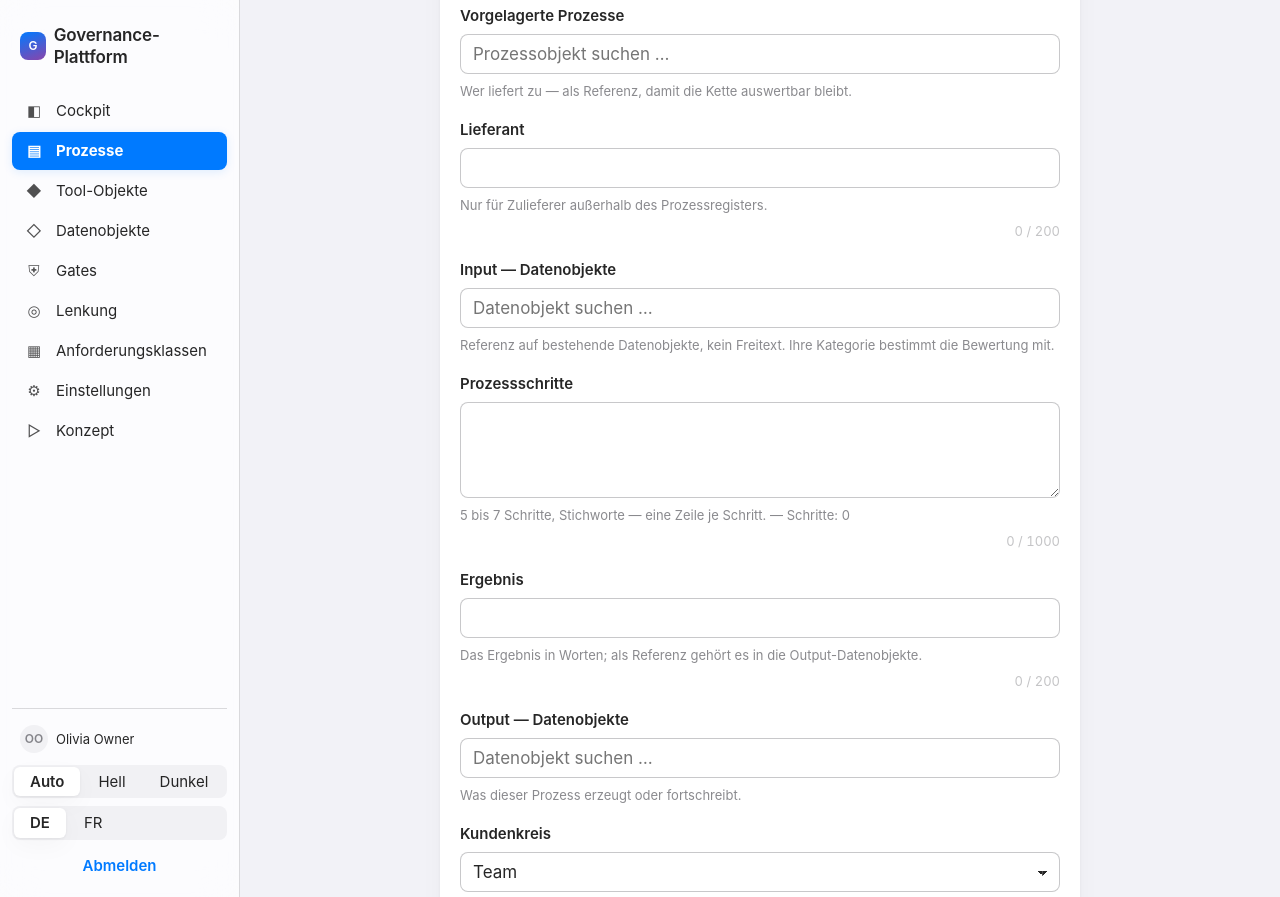
Scenario: Prozessformular — Referenzen statt Freitext › warnt ab dem achten Prozessschritt
(page scrolled)
In the text box labelled "Prozessschritte": (760, 450) [460, 402, 1060, 498], type "a;b;c;d;e;f;g"
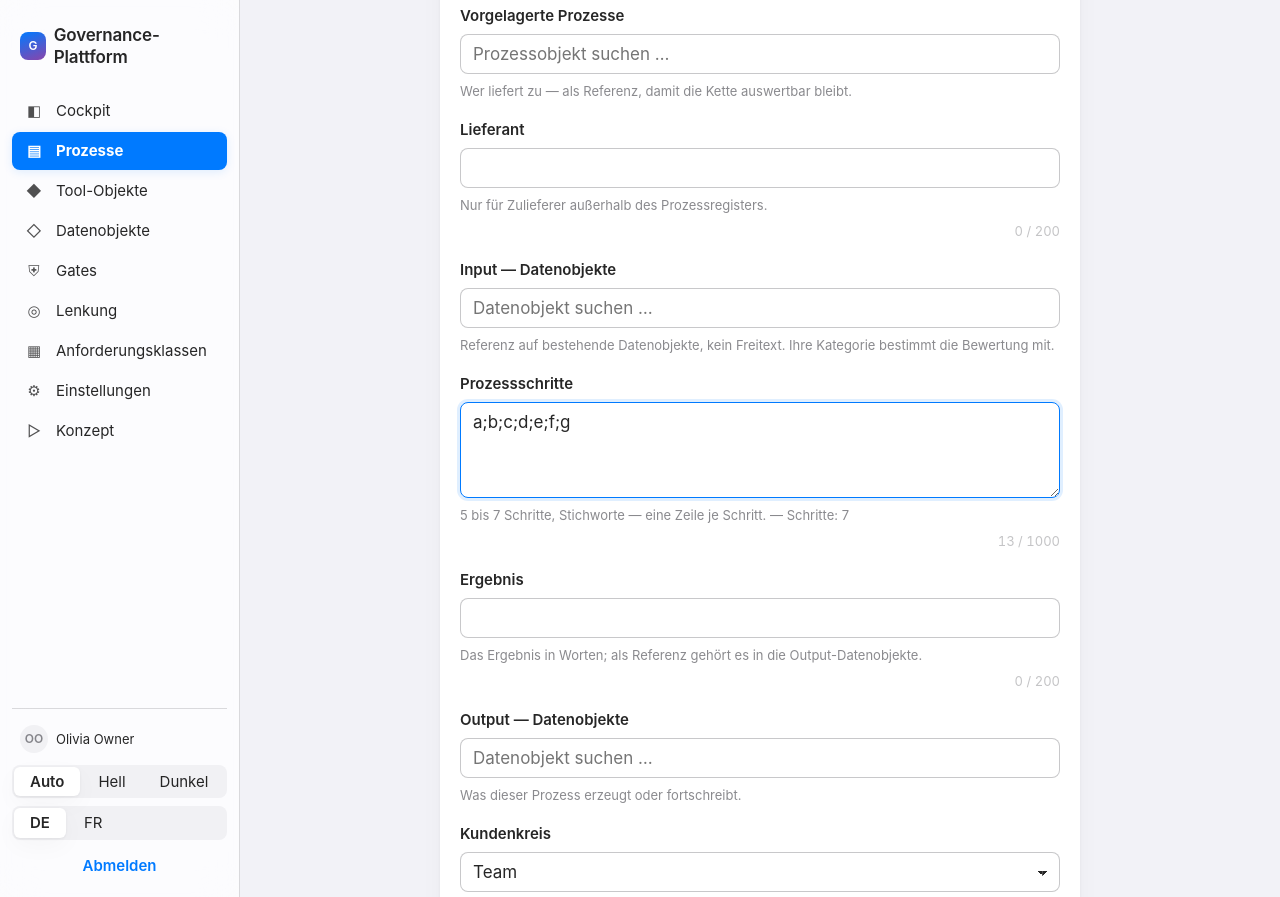
expect the text "falsche Flughöhe" is not shown: met
In the text box labelled "Prozessschritte": (760, 450) [460, 402, 1060, 498], type ";h"
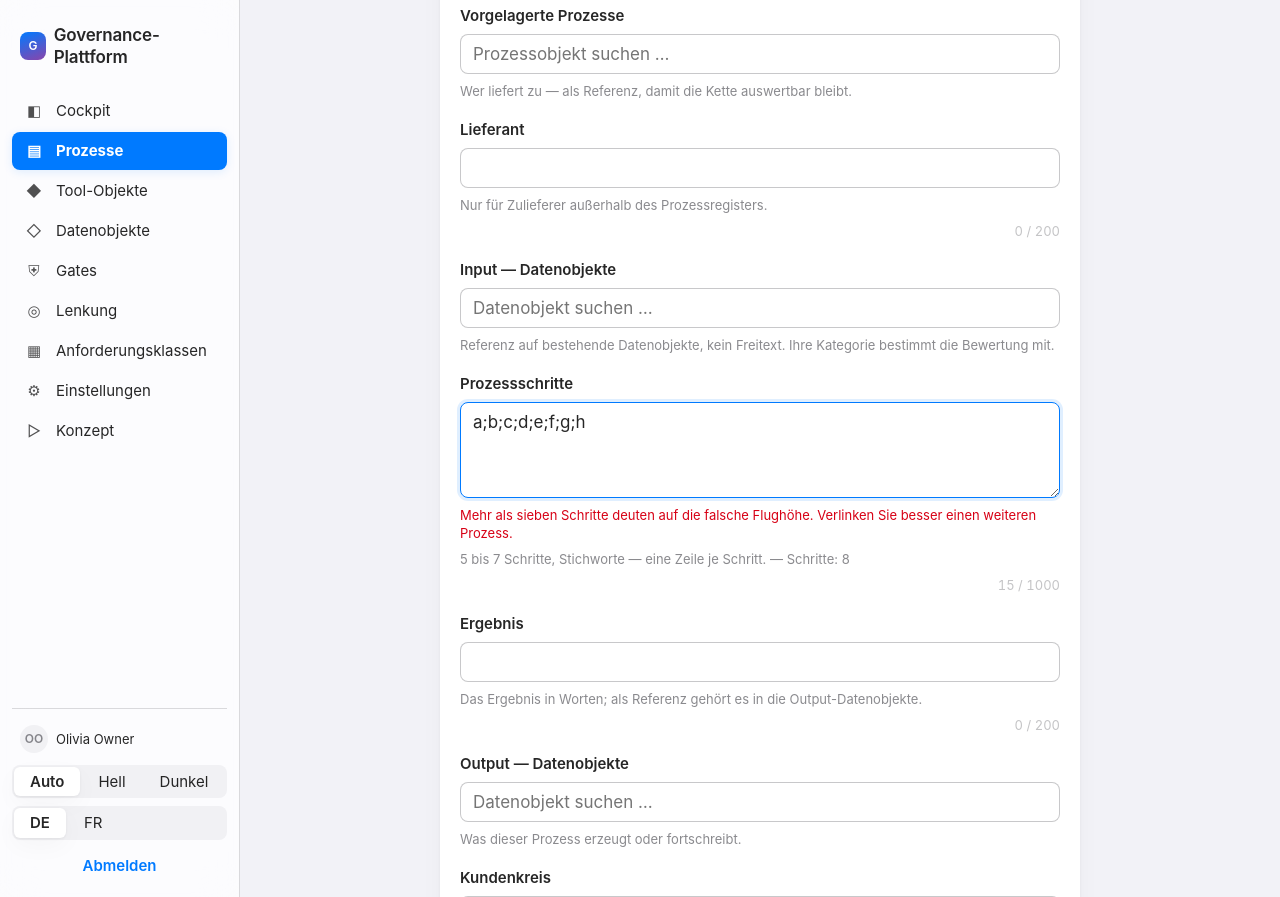
expect the text "falsche Flughöhe" is shown: met, box [460, 507, 1036, 541]
